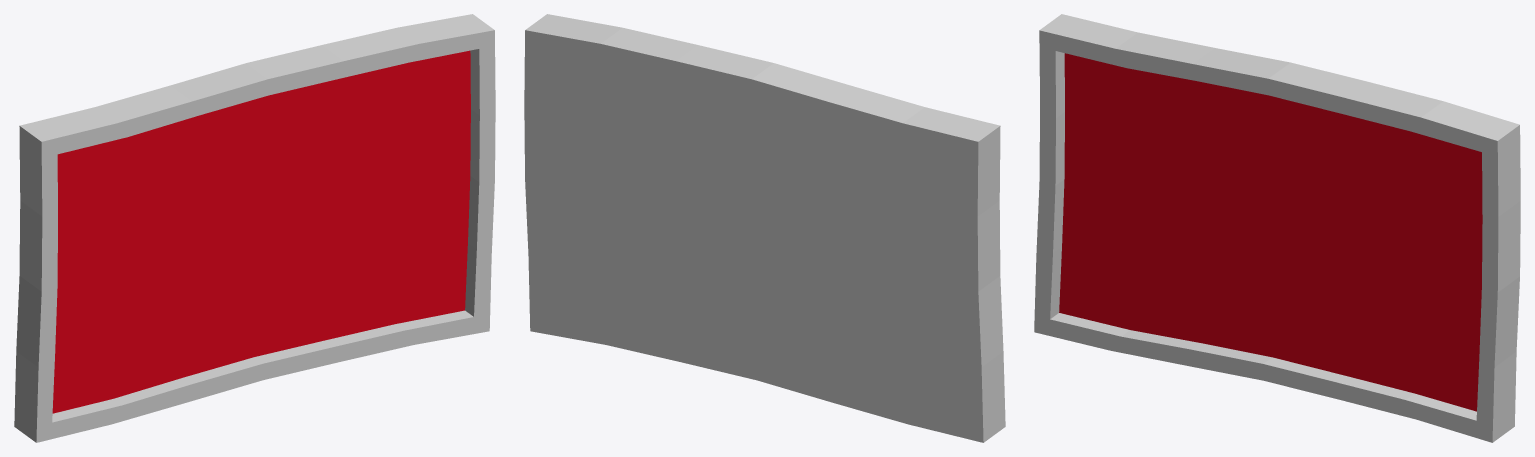
Rendered from SM_NoticeBoard.fbx.
3 renders of one model, left to right at view 1: azimuth 30°, elevation 25°; view 2: azimuth 150°, elevation 25°; view 3: azimuth 330°, elevation 25°, orthographic.
Parts seen in each view (by area): view 1: Cube; view 2: Cube; view 3: Cube.
Part boxes in pixels (x1=…): Cube: x1=14, y1=14, x2=495, y2=442; Cube: x1=524, y1=14, x2=1005, y2=442; Cube: x1=1034, y1=14, x2=1520, y2=442.
Bounding box in the file's own units: 225 × 144 × 18.77.
